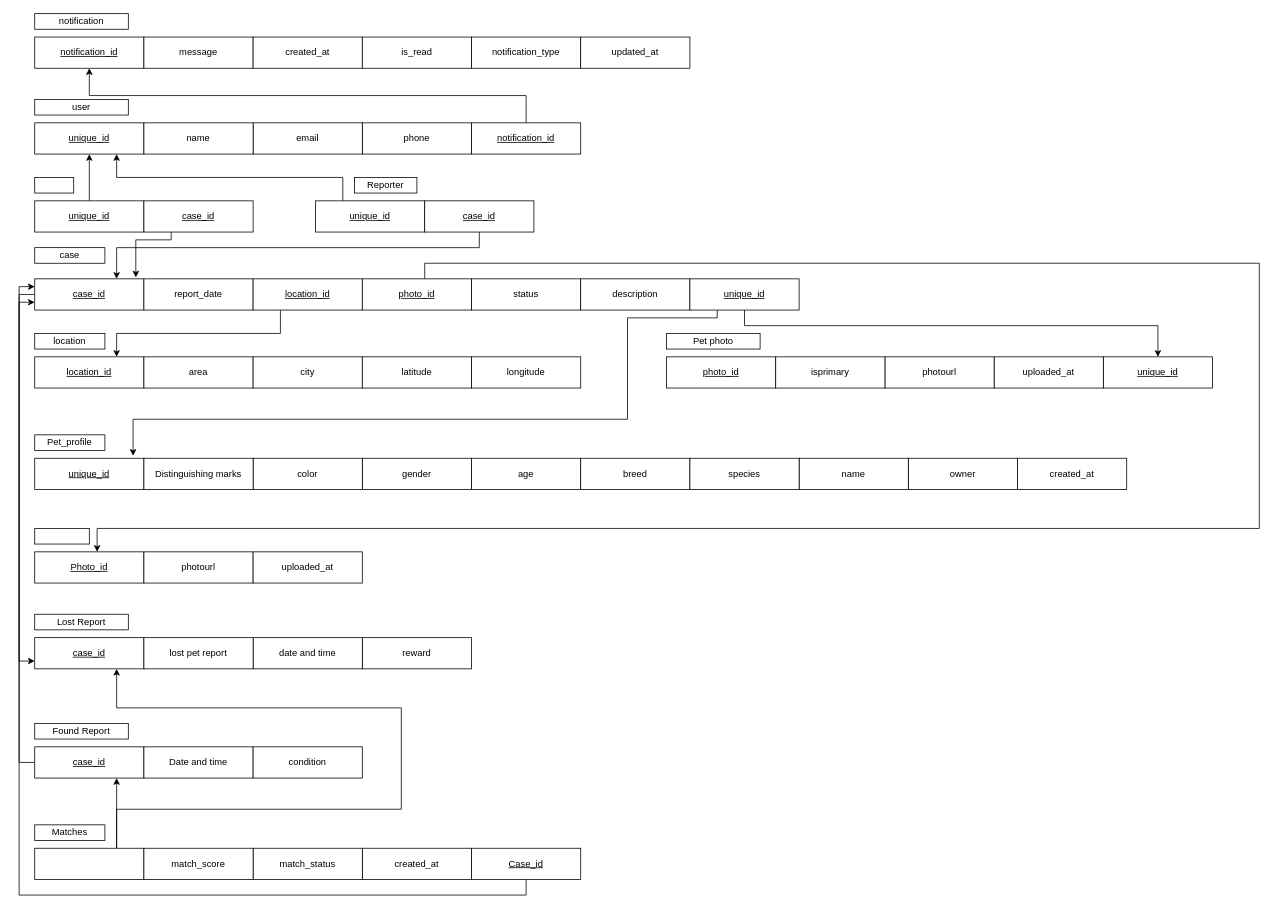
The diagram is 1279 pixels wide and 915 high, and some of its shapes have lost their labels. Each missing label, with the centre of its shape:
admin: point 54,185
case photo: point 61,536
Match_id: point 89,863
